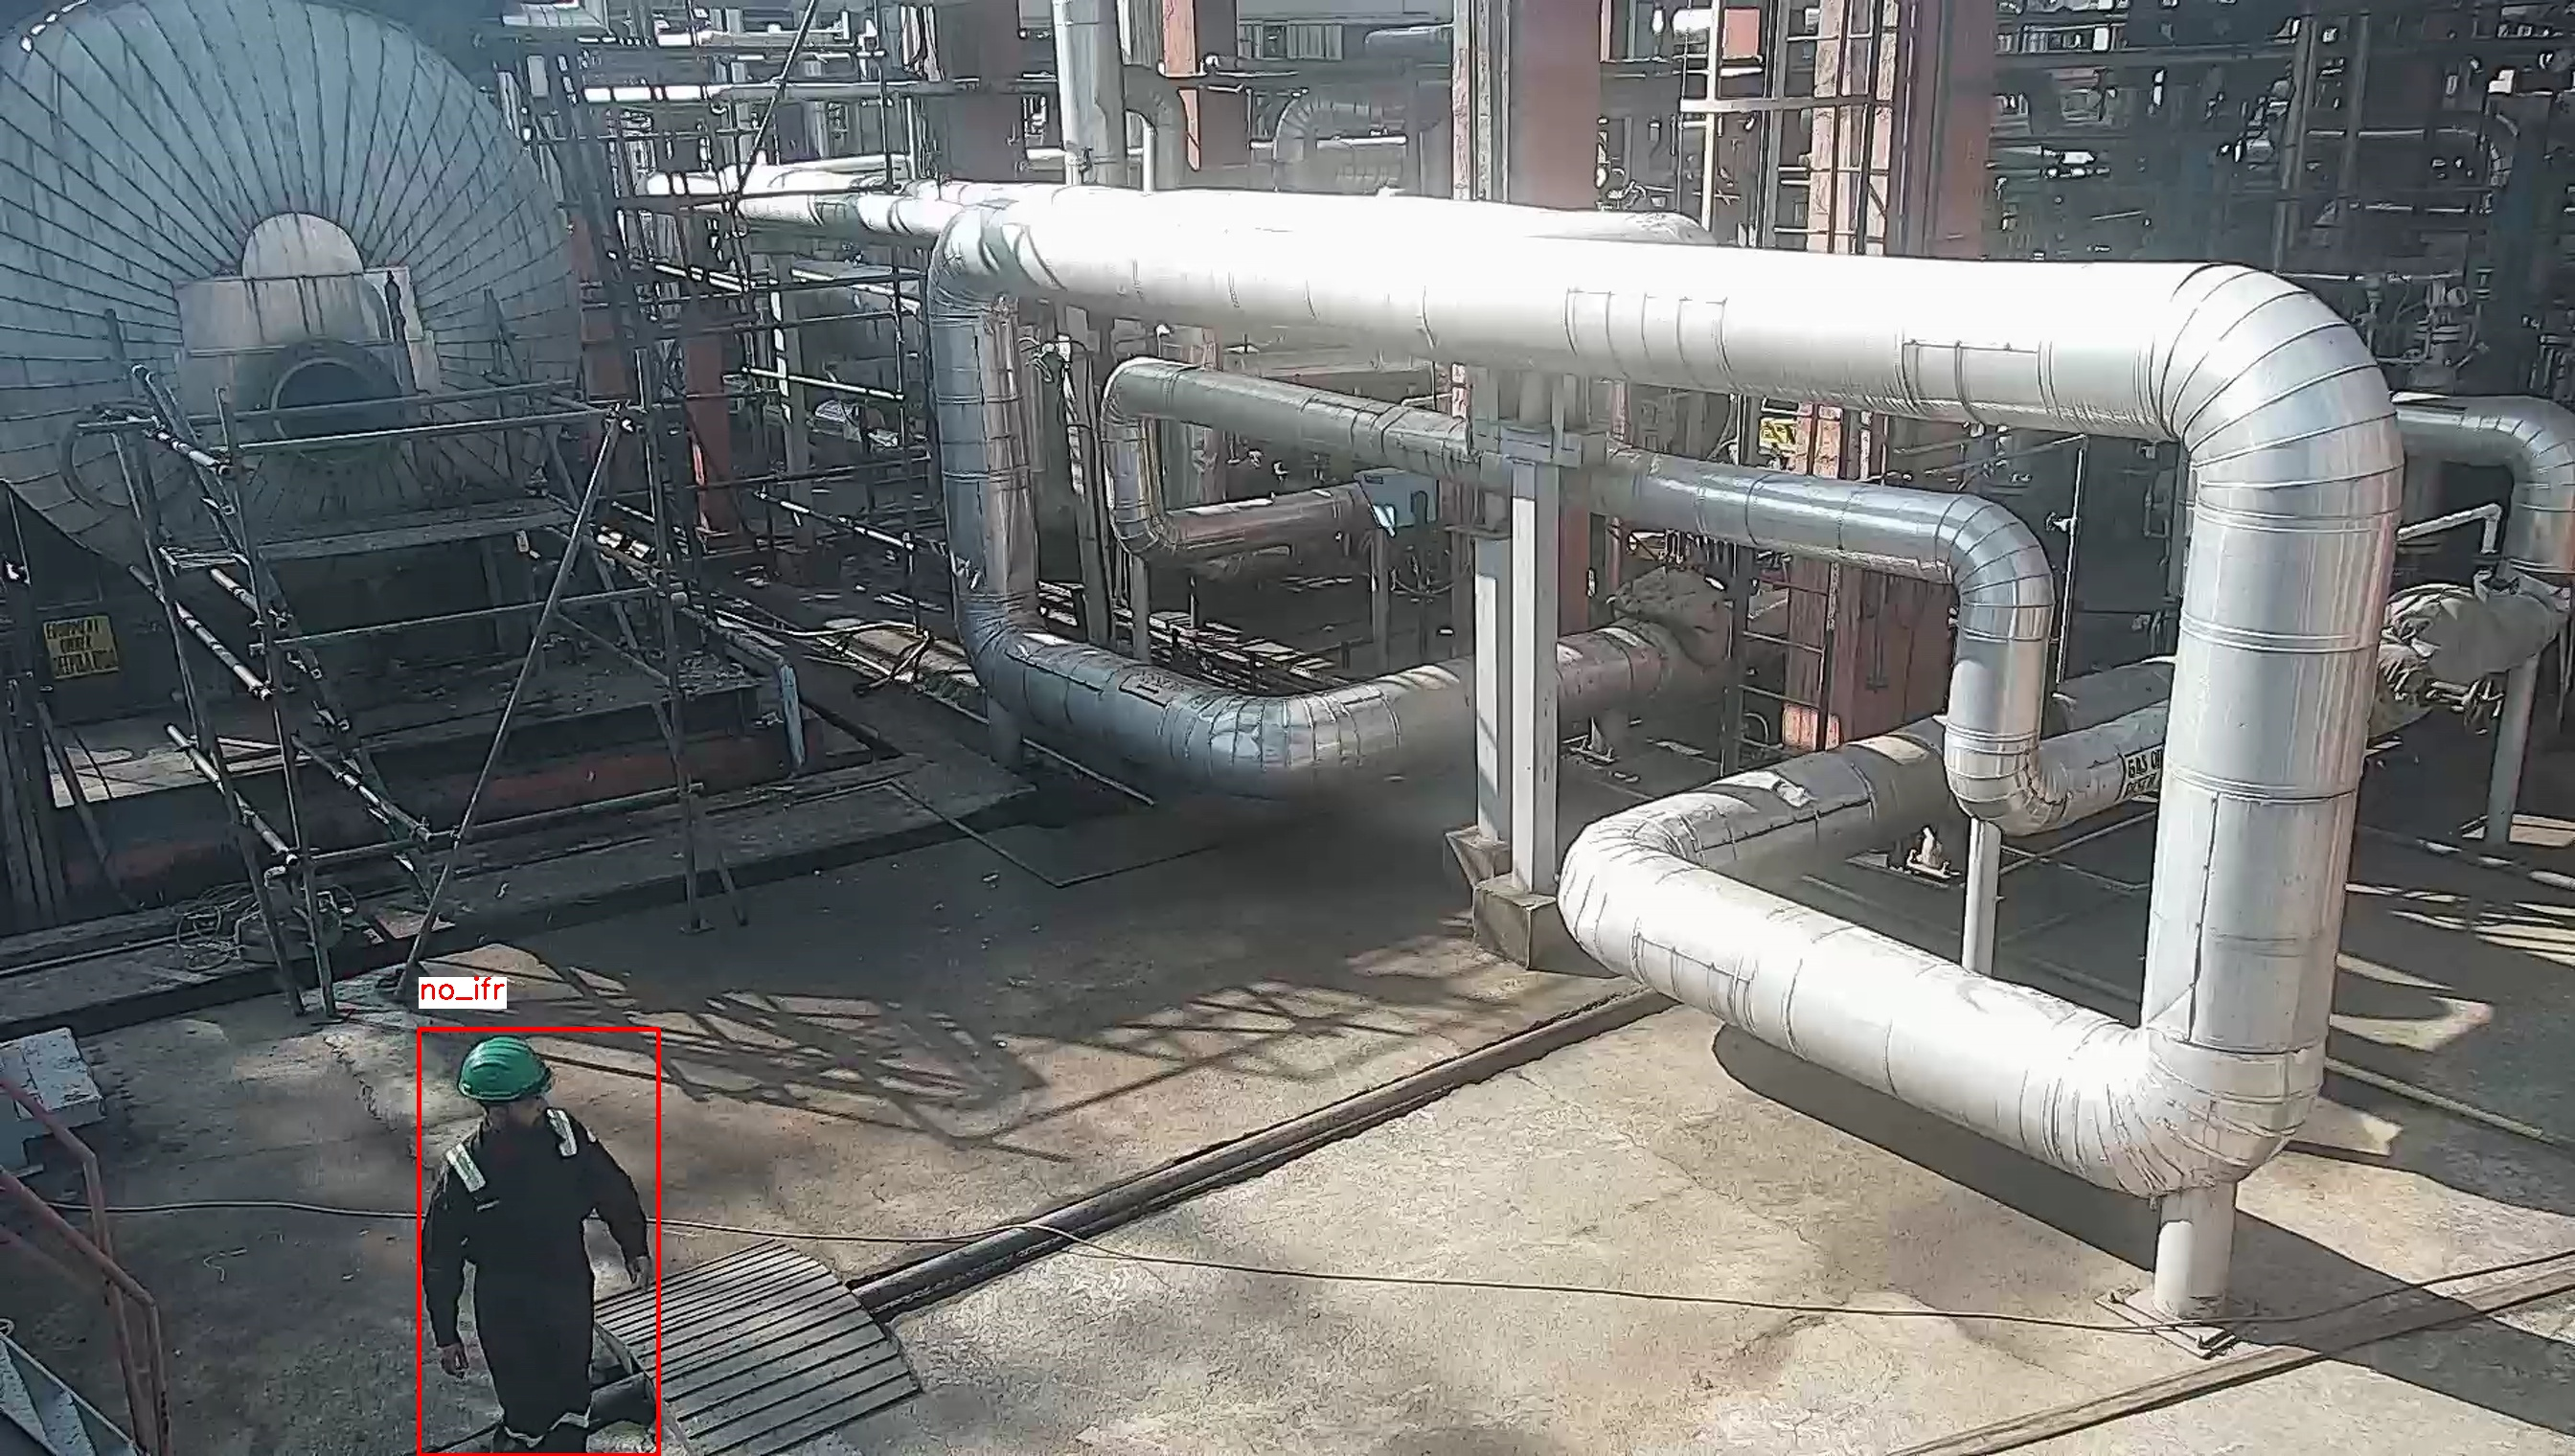Helmets: (456, 1037, 559, 1115)
IFR_Suit: (424, 1123, 647, 1454)
